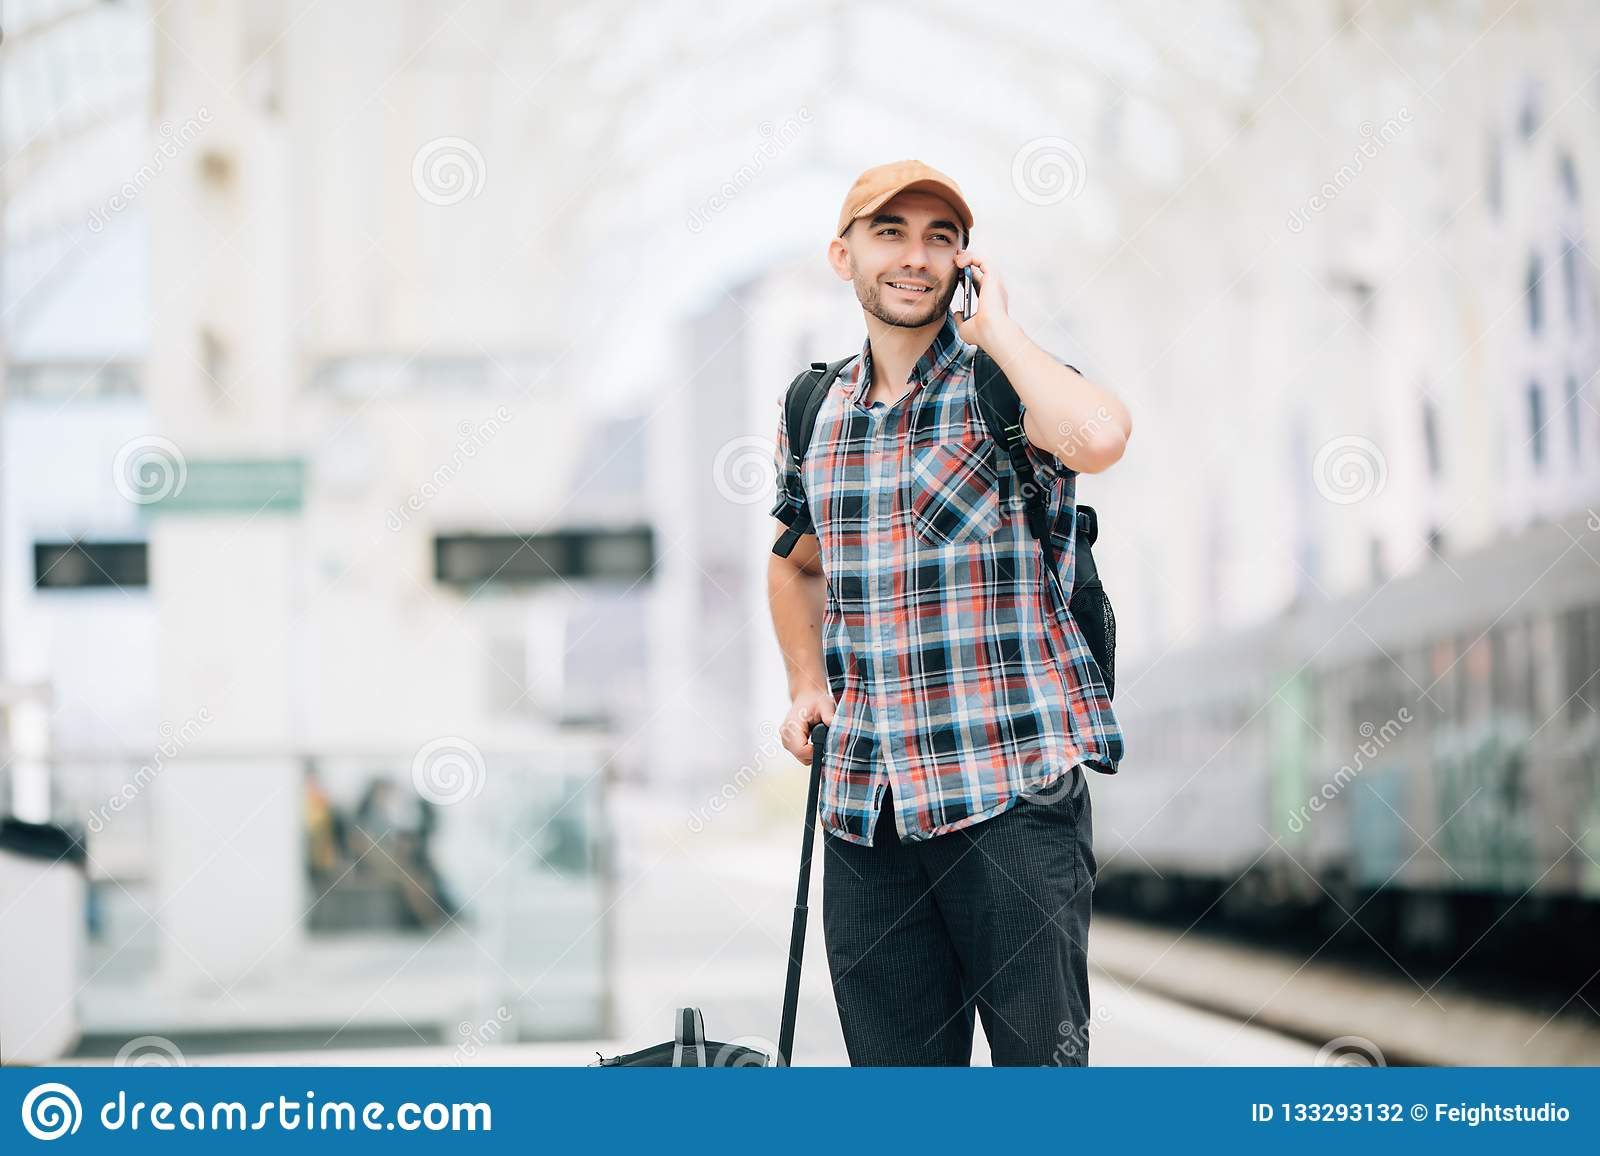phone: (955, 262, 979, 328)
talk: (867, 214, 1009, 350)
